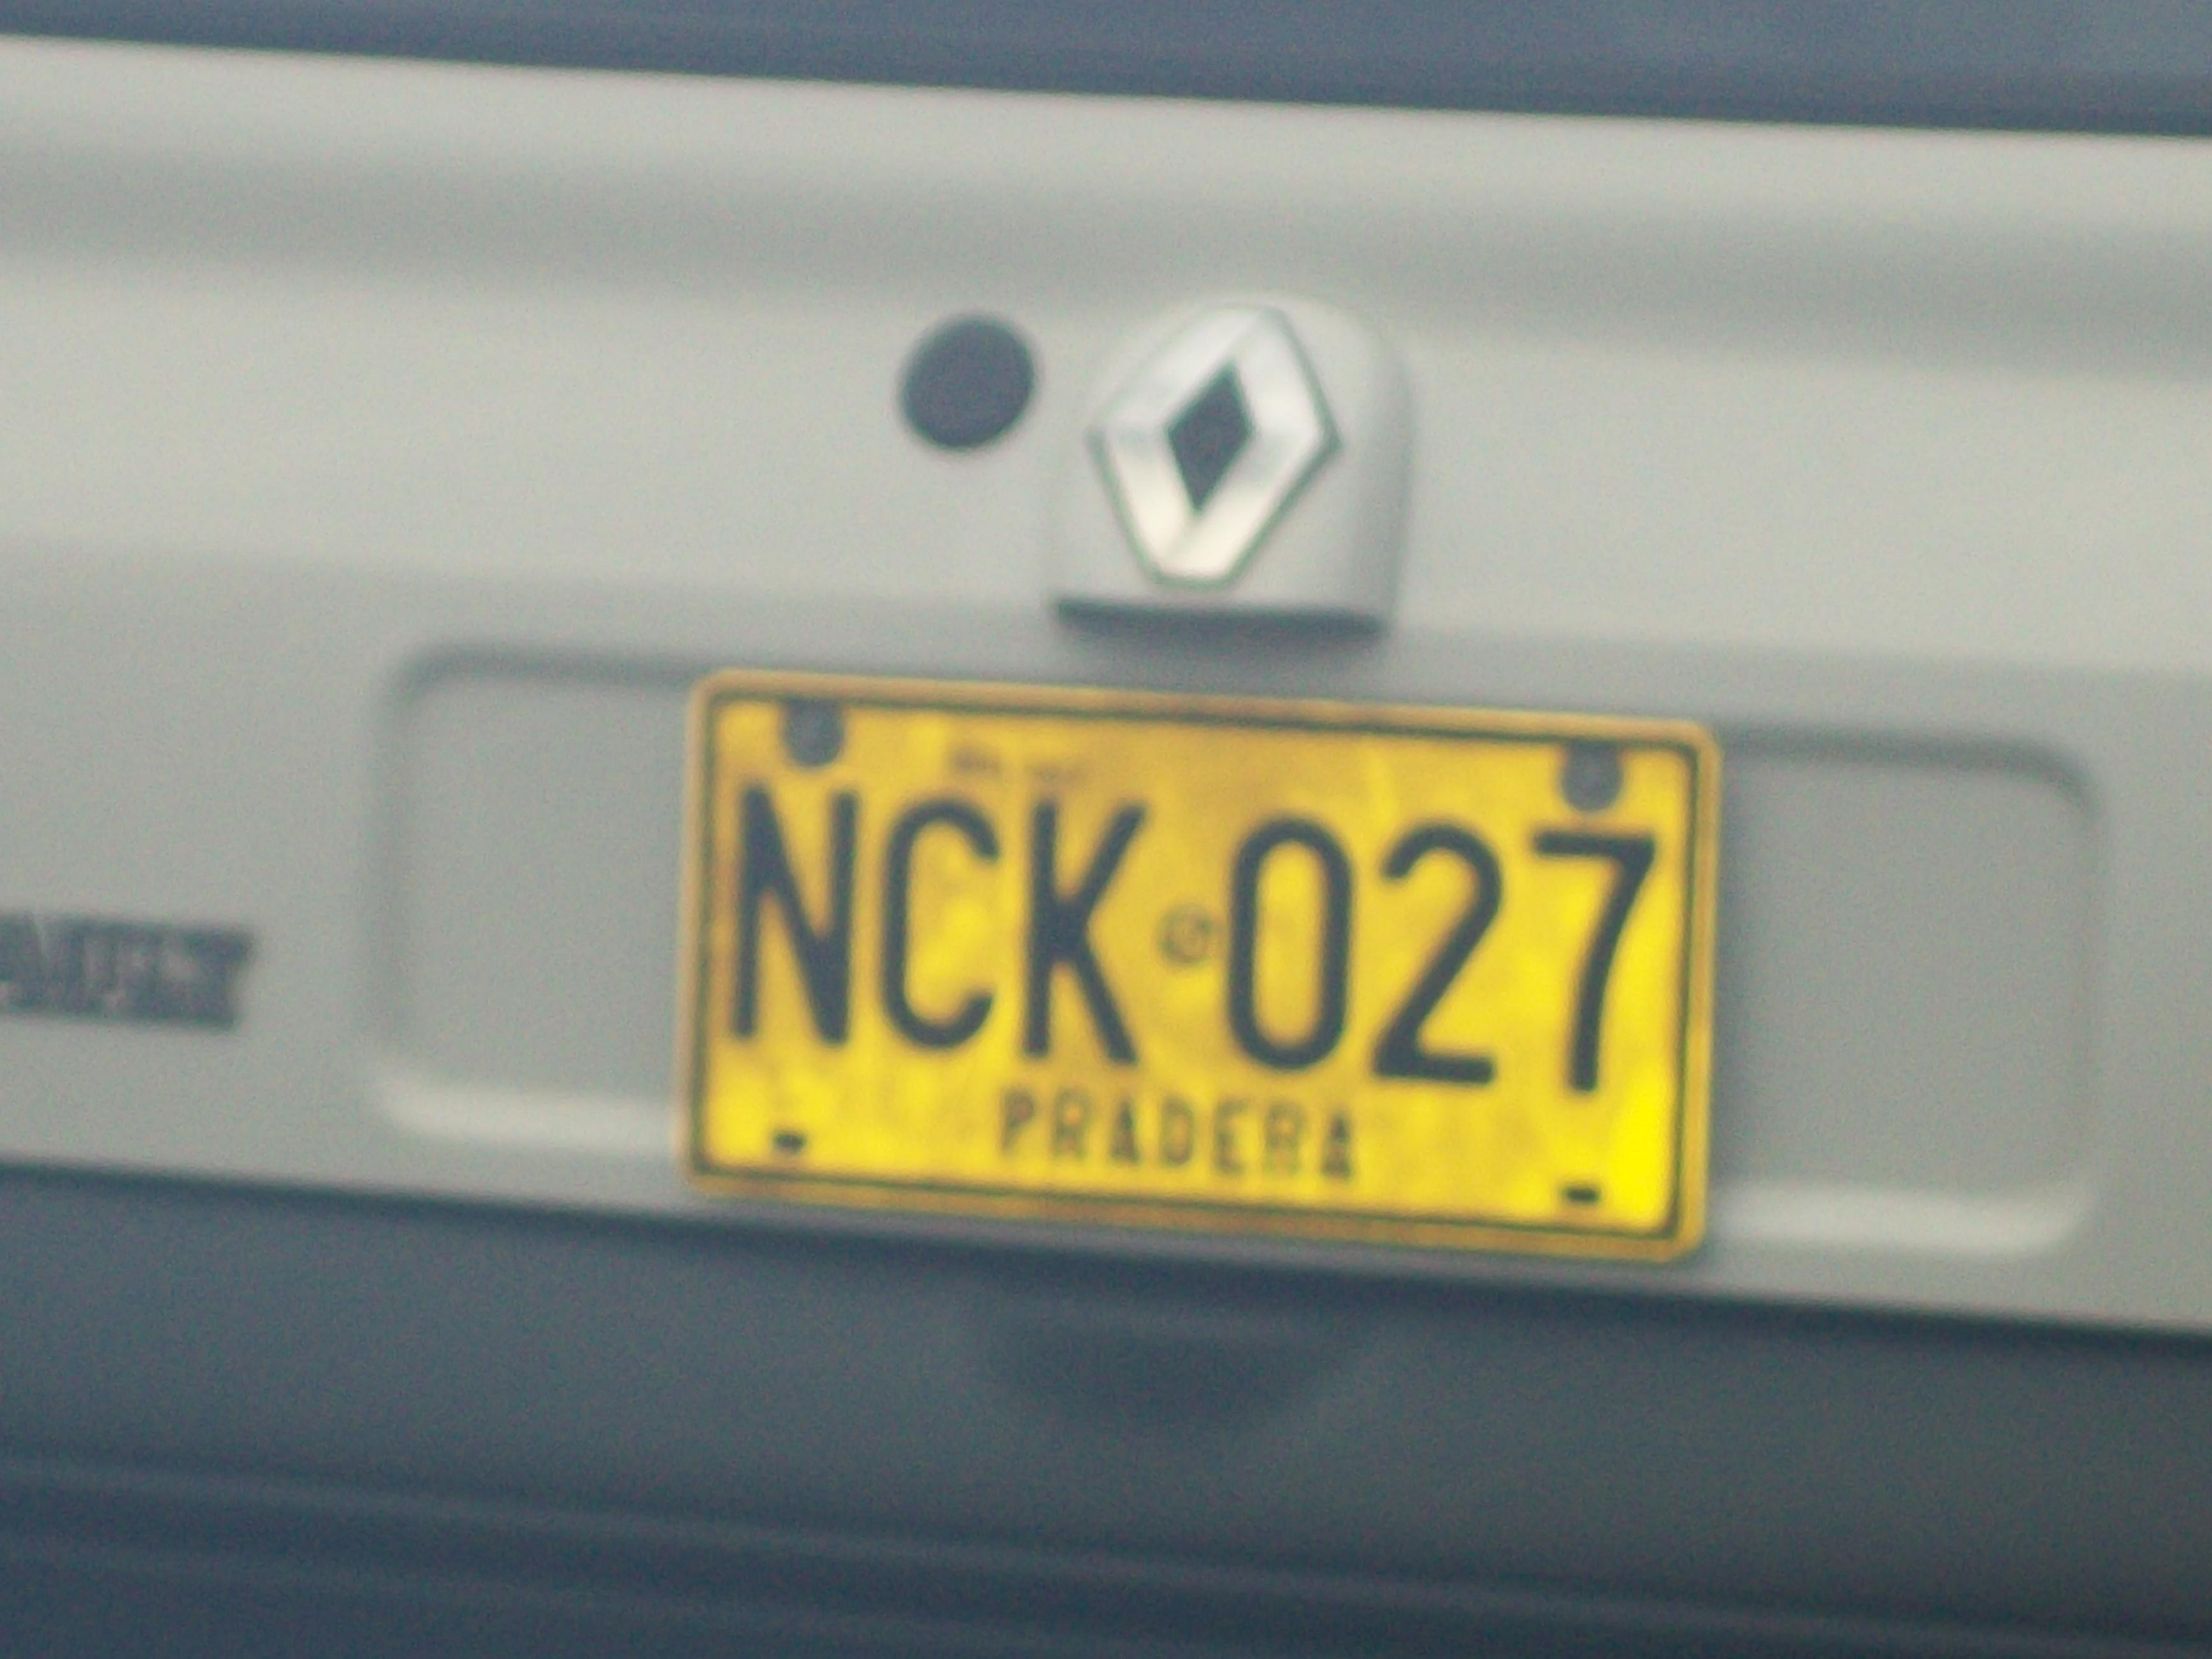placas: (671, 635, 1721, 1274)
